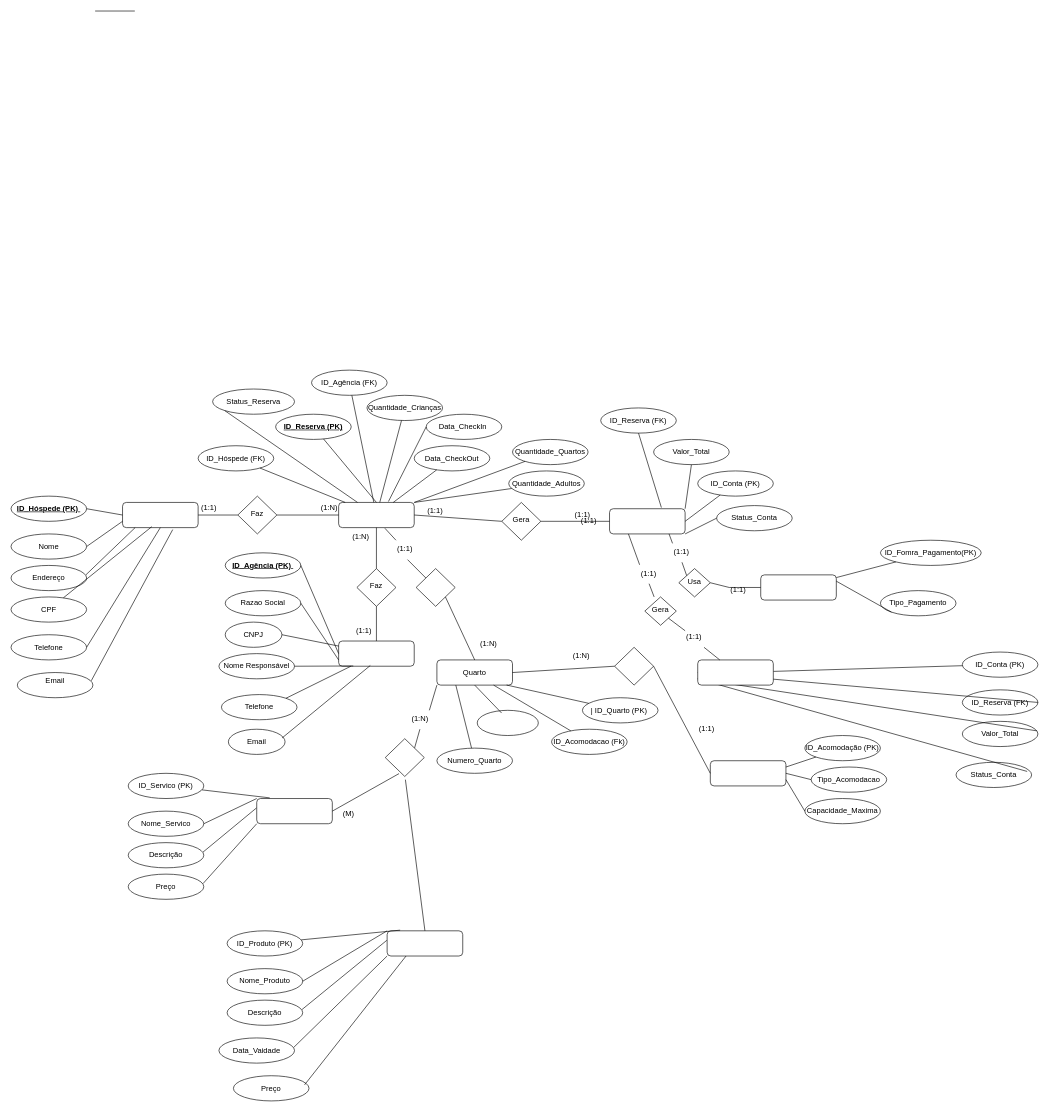
Image size: 1050x1112. Some labels were removed from this diagram. Each missing label, with the centre of its shape:
"Acomodação" goes at (x=748, y=773).
"Agência de Vendas" goes at (x=376, y=653).
"Consome" goes at (x=404, y=757).
"Conta" goes at (x=647, y=521).
"Contém" goes at (x=435, y=587).
"Foma_Pagamento" goes at (x=798, y=587).
"Hospede" goes at (x=160, y=515).
"Nota Fiscal" goes at (x=735, y=672).
"Pertence" goes at (x=634, y=666).
"Produto" goes at (x=425, y=943).
"Reserva" goes at (x=376, y=515).
"Serviço" goes at (x=294, y=811).
"Status_Quarto" goes at (x=507, y=723).
